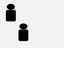human: (17, 22, 30, 42), (4, 1, 16, 22)
